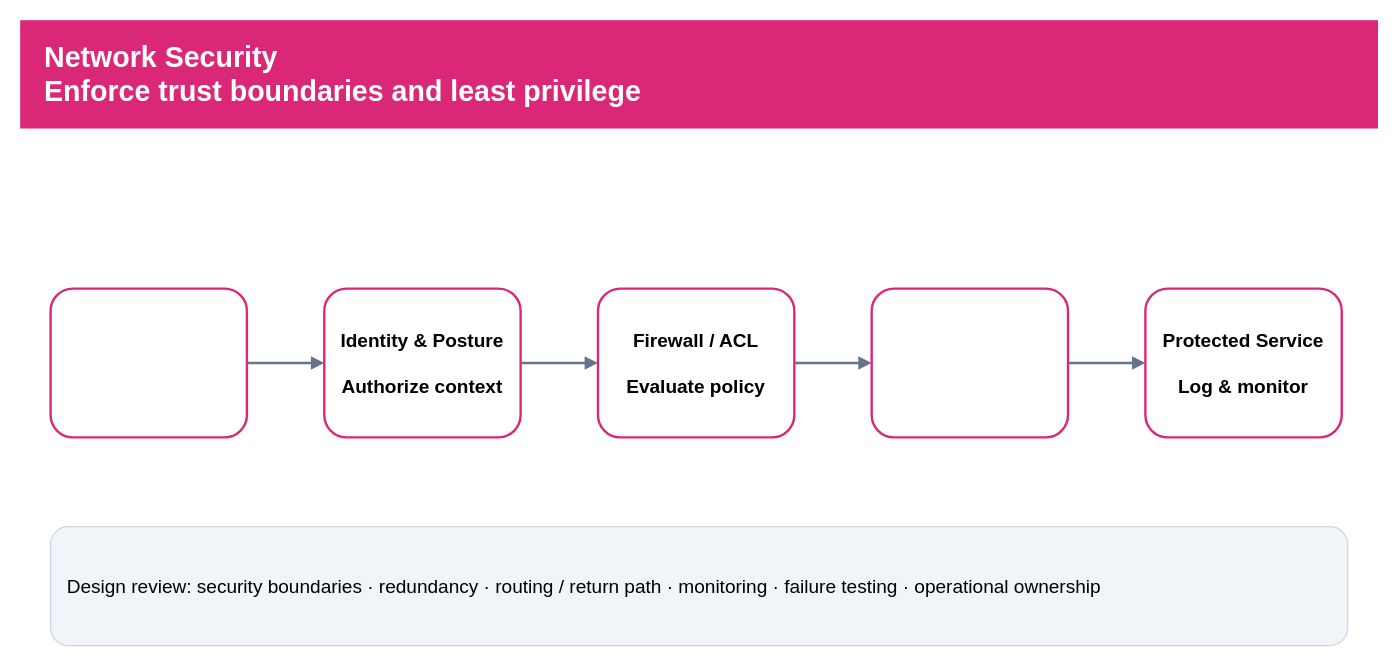
Image size: 1398x666. Some labels were removed from this diagram. The shapes that lost their labels are listed below. From the top down, each one's box as (x1, y1, x2, y2) in pixels, then its label:
(49, 287, 248, 438): User / Workload Authenticate
(870, 287, 1069, 438): Inspection / VPN Inspect / encrypt
